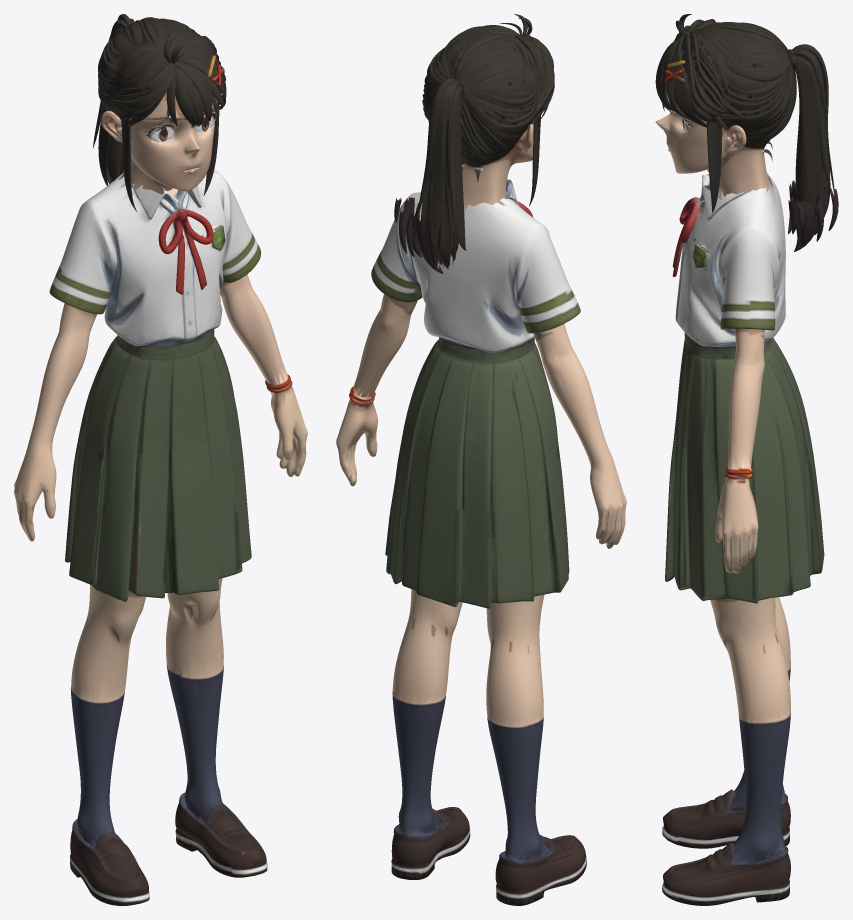
File: Character.glb
The picture shows the model from 3 angles, left to right: view 1: azimuth 30°, elevation 25°; view 2: azimuth 150°, elevation 25°; view 3: azimuth 270°, elevation 25°; orthographic projection.
Visible parts, largest first — view 1: node_0, node_0_001; view 2: node_0, node_0_001; view 3: node_0, node_0_001.
Part boxes in pixels (x1,y1,x2,y2): node_0: (14, 157, 307, 905); node_0_001: (93, 14, 226, 212); node_0: (336, 179, 626, 905); node_0_001: (417, 14, 554, 269); node_0: (662, 172, 838, 905); node_0_001: (655, 14, 834, 214).
Size of the model in its own units: 0.5697 by 1.62 by 0.318.
Materials: 2 (2 with a texture image).
